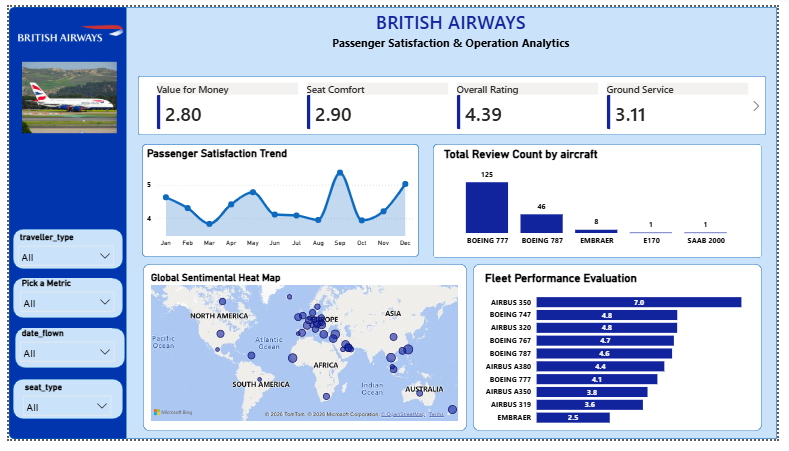

The page's visual inventory and layout, read from the dashboard file:
{"tool":"powerbi","page":{"name":"Page 1","canvas":[1280,720],"ordinal":0},"visuals":[{"type":"shape","box":[0,0,221.7,720],"z":0},{"type":"shape","box":[195,0,1085,720],"z":1000},{"type":"cardVisual","fields":{"Data":["Countries.DASHBOARD Title"]},"box":[195,0,1083.3,75],"z":2000},{"type":"shape","box":[221.7,228.3,461.7,188.3],"z":3000},{"type":"shape","box":[773.3,428.3,481.7,278.3],"z":4000},{"type":"shape","box":[706.7,228.3,548.3,190],"z":5000},{"type":"areaChart","title":"Passenger Satisfaction Trend","fields":{"Y":["Countries.Metric Value"],"Category":["ba_reviews.Month"]},"box":[225,233.3,455,173.3],"z":6000},{"type":"clusteredBarChart","title":"Fleet Performance Evaluation","fields":{"Category":["ba_reviews.aircraft"],"Y":["Countries.Metric Value"]},"box":[788.3,440,451.7,266.7],"z":7000},{"type":"clusteredColumnChart","fields":{"Category":["ba_reviews.aircraft"],"Y":["ba_reviews.Total Review Count"]},"box":[720,233.3,520,173.3],"z":8000},{"type":"image","box":[13.3,0,176.7,125],"z":9000},{"type":"image","box":[21.7,58.3,158.3,301.7],"z":10000},{"type":"shape","box":[223.3,428.3,540,278.3],"z":11000},{"type":"map","title":"Global Sentimental Heat Map","fields":{"Category":["Countries.Country"],"Size":["Countries.Metric Value"]},"box":[231.7,440,523.3,255],"z":12000},{"type":"shape","box":[6.7,370,183.3,66.7],"z":13000},{"type":"shape","box":[6.7,451.7,183.3,66.7],"z":14000},{"type":"shape","box":[10,535,183.3,66.7],"z":15000},{"type":"shape","box":[6.7,620,183.3,66.7],"z":16000},{"type":"slicer","fields":{"Values":["ba_reviews.traveller_type"]},"box":[10,375,170,61.7],"z":17000},{"type":"slicer","fields":{"Values":["ba_reviews.seat_type"]},"box":[13.3,620,166.7,65],"z":19000},{"type":"slicer","fields":{"Values":["ba_reviews.date_flown"]},"box":[13.3,535,166.7,65],"z":20000},{"type":"slicer","fields":{"Values":["Pick a Metric.Pick a Metric"]},"box":[13.3,451.7,166.7,65],"z":21000},{"type":"shape","box":[215,115,1046.7,98.3],"z":22000},{"type":"cardVisual","fields":{"Rows":["Metric_Selection.Metric Name"],"Data":["Countries.Metric Value"]},"box":[225,125,1030,71.7],"z":22500}]}

Visuals, with their boxes in screenshot pixels (x1, y1, x2, y2), scaled from the page's 1280x720 canvas onto the 789x451 screenshot:
shape: [x1=0, y1=0, x2=137, y2=450]
shape: [x1=120, y1=0, x2=788, y2=450]
cardVisual - Countries.DASHBOARD Title: [x1=120, y1=0, x2=788, y2=47]
shape: [x1=137, y1=143, x2=421, y2=261]
shape: [x1=477, y1=268, x2=774, y2=443]
shape: [x1=436, y1=143, x2=774, y2=262]
"Passenger Satisfaction Trend" areaChart: [x1=139, y1=146, x2=419, y2=255]
"Fleet Performance Evaluation" clusteredBarChart: [x1=486, y1=276, x2=764, y2=443]
clusteredColumnChart - ba_reviews.aircraft x ba_reviews.Total Review Count: [x1=444, y1=146, x2=764, y2=255]
image: [x1=8, y1=0, x2=117, y2=78]
image: [x1=13, y1=37, x2=111, y2=226]
shape: [x1=138, y1=268, x2=471, y2=443]
"Global Sentimental Heat Map" map: [x1=143, y1=276, x2=465, y2=435]
shape: [x1=4, y1=232, x2=117, y2=274]
shape: [x1=4, y1=283, x2=117, y2=325]
shape: [x1=6, y1=335, x2=119, y2=377]
shape: [x1=4, y1=388, x2=117, y2=430]
slicer - ba_reviews.traveller_type: [x1=6, y1=235, x2=111, y2=274]
slicer - ba_reviews.seat_type: [x1=8, y1=388, x2=111, y2=429]
slicer - ba_reviews.date_flown: [x1=8, y1=335, x2=111, y2=376]
slicer - Pick a Metric.Pick a Metric: [x1=8, y1=283, x2=111, y2=324]
shape: [x1=133, y1=72, x2=778, y2=134]
cardVisual - Metric_Selection.Metric Name x Countries.Metric Value: [x1=139, y1=78, x2=774, y2=123]
